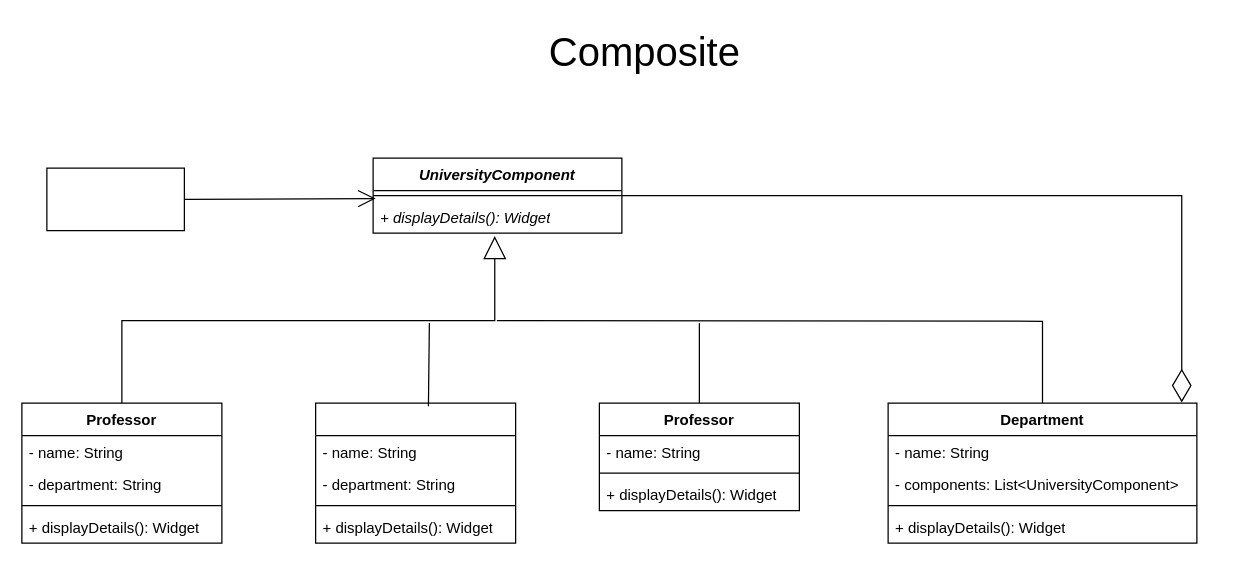
Image size: 1236x568. Some labels were removed from this diagram. The shapes that lost their labels are listed below. From the top down, each one's box as (x1, y1, x2, y2) in pixels, then its label:
(46, 167, 184, 231): Client
(314, 402, 516, 543): Course
